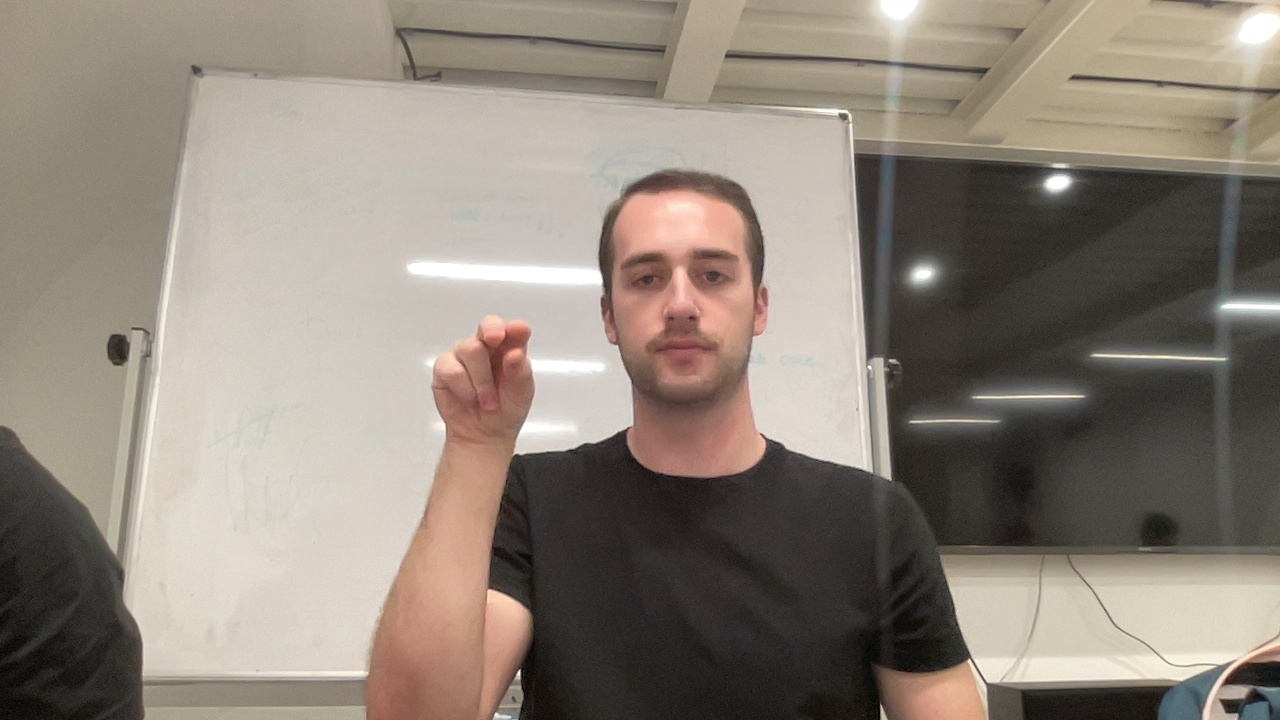No: (432, 311, 538, 457)
